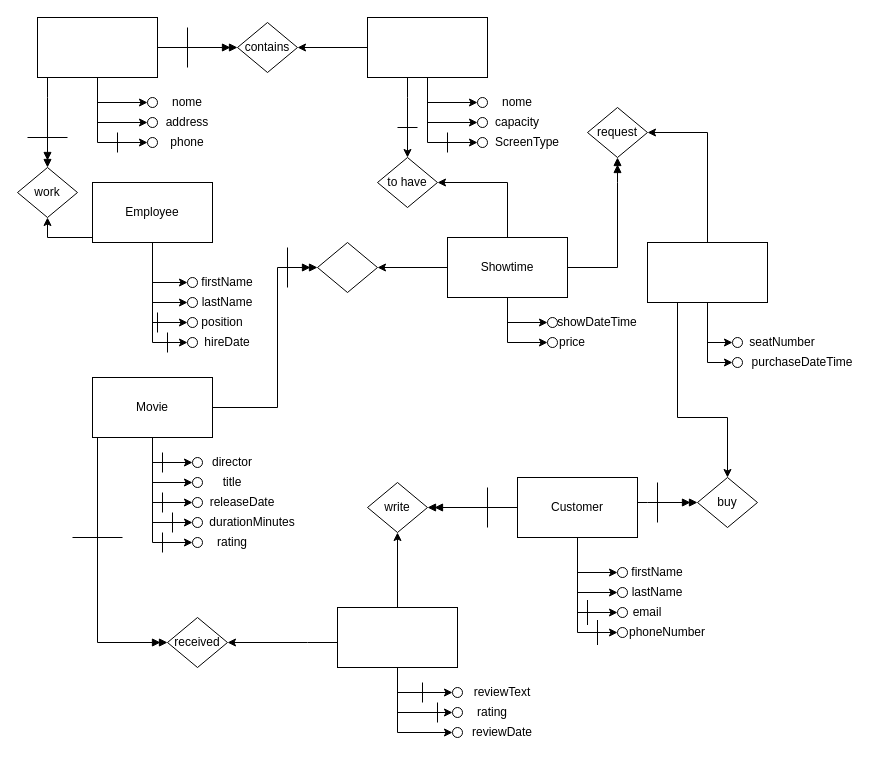
Some shapes in this 870 by 765 pixel diagram are drawn without their labels. Here are the shapes that lost their labels. From the top down, the centre of each, then its label:
At [97,47]: "Cinema".
At [427,47]: "Theater".
At [347,267]: "has".
At [707,272]: "Ticket".
At [397,637]: "Review".
